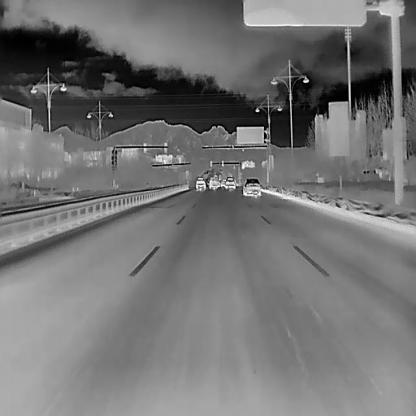car: (242, 177, 260, 197), (194, 176, 206, 190), (207, 176, 218, 190), (225, 176, 235, 190), (219, 177, 227, 189)
